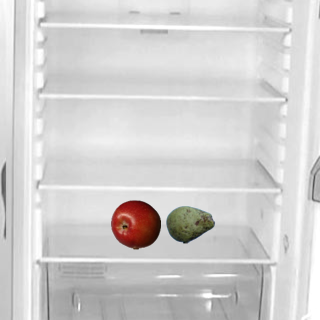Apple Braeburn: (110, 199, 160, 249)
Pear Stone: (165, 199, 215, 249)
